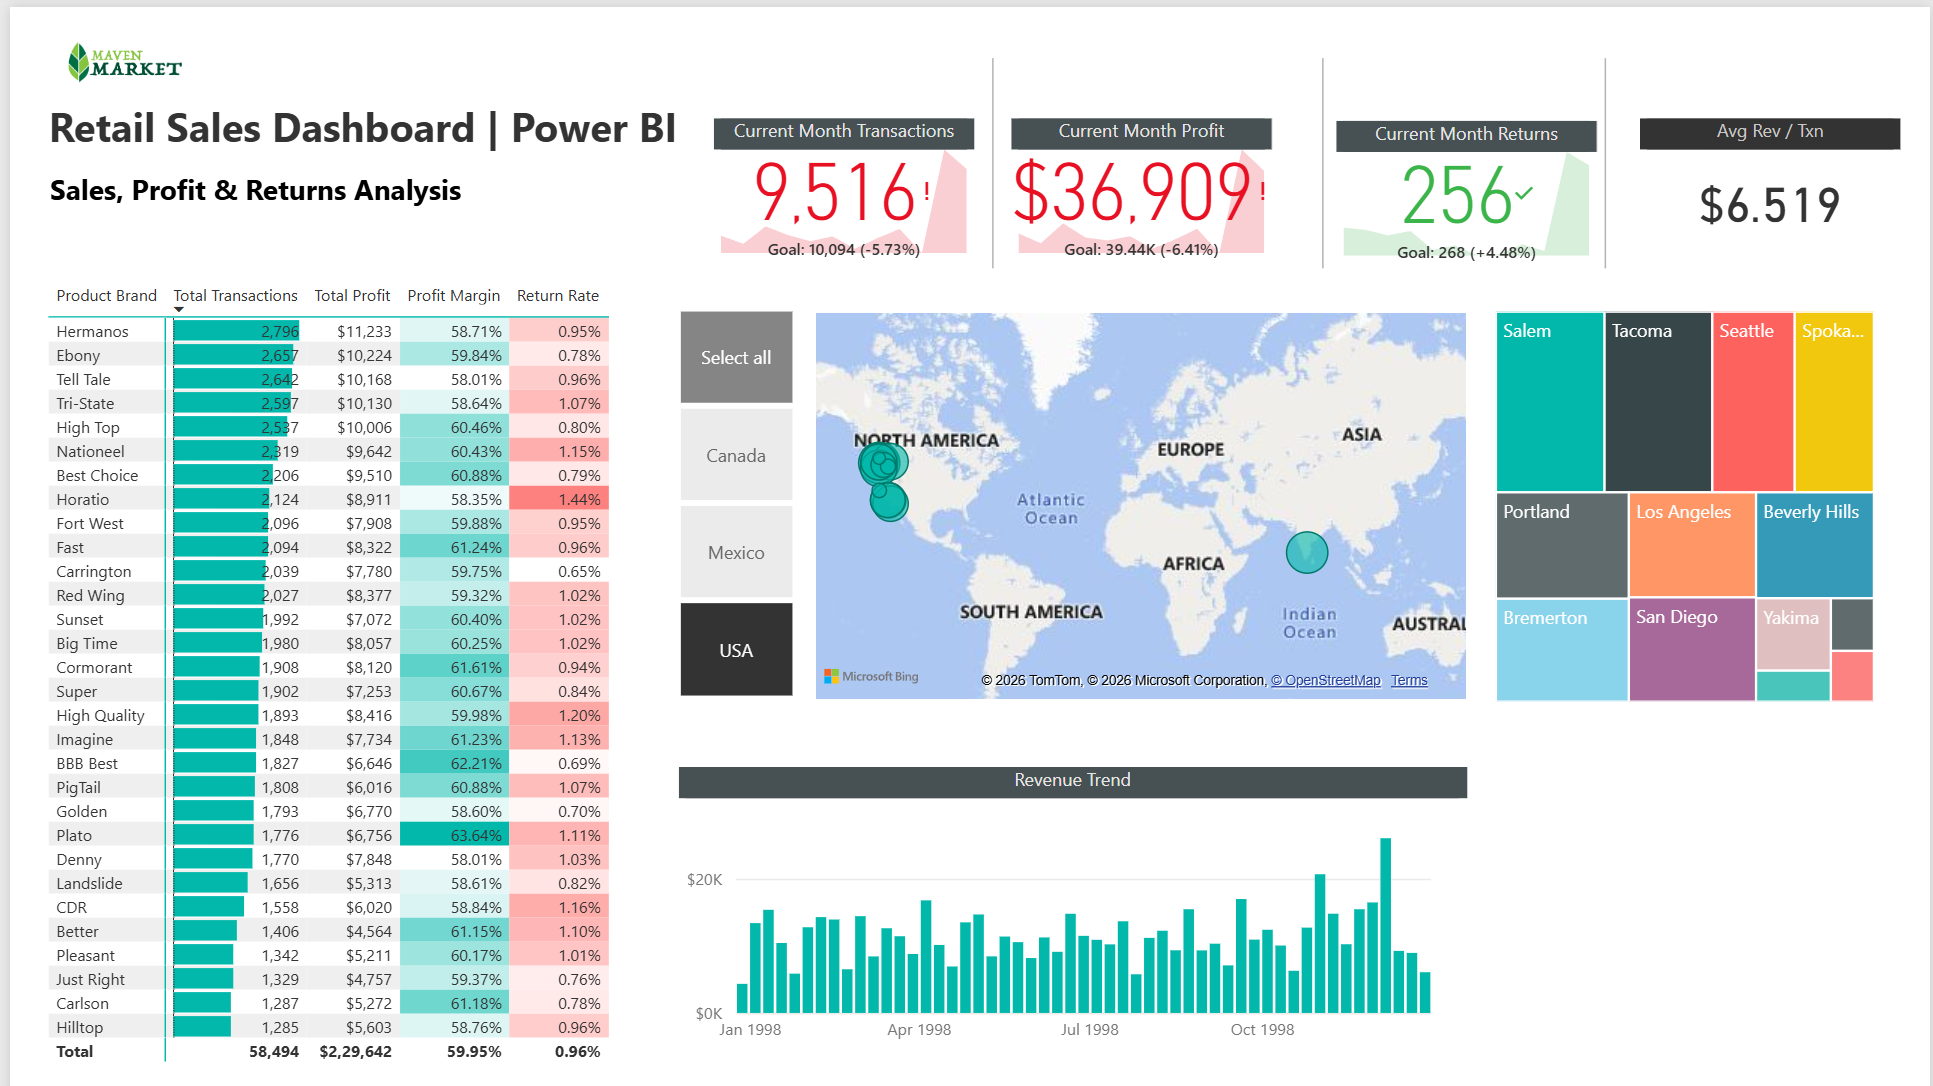

The page's visual inventory and layout, read from the dashboard file:
{"tool":"powerbi","page":{"name":"Retail Performance Dashboard","canvas":[1280,720],"ordinal":0},"visuals":[{"type":"image","box":[20.9,0,111.3,40],"z":0},{"type":"pivotTable","fields":{"Rows":["Products.product_brand"],"Values":["Transaction_Data.Total Transactions","Transaction_Data.Total Profit","Transaction_Data.Profit Margin","Return_Data.Return Rate"]},"box":[20.6,161.3,401.5,536],"z":1000},{"type":"kpi","title":"Current Month Transactions","fields":{"Goal":["Transaction_Data.Last Month Transactions"],"Indicator":["Transaction_Data.Total Transactions"],"TrendLine":["Calendar.Start of Month"]},"box":[468.8,57.5,173.8,95],"z":2000},{"type":"kpi","title":"Current Month Profit","fields":{"Goal":["Transaction_Data.Last Month Profit"],"Indicator":["Transaction_Data.Total Profit"],"TrendLine":["Calendar.Start of Month"]},"box":[667.5,57.5,173.8,95],"z":3000},{"type":"kpi","title":"Current Month Returns","fields":{"Goal":["Return_Data.Last Month Returns"],"Indicator":["Return_Data.Total Returns"],"TrendLine":["Calendar.Start of Month"]},"box":[883.8,58.8,173.8,95],"z":4000},{"type":"map","fields":{"Category":["Stores.store_city"],"Size":["Transaction_Data.Total Transactions"]},"box":[532.8,182.5,442.7,266.5],"z":5000},{"type":"slicer","fields":{"Values":["Stores.store_country"]},"box":[420.5,178.9,124.7,270],"z":6000},{"type":"columnChart","title":"Revenue Trend","fields":{"Category":["Calendar.Start of Week"],"Y":["Transaction_Data.Total Revenue"]},"box":[445.9,490,525.3,192.2],"z":7000},{"type":"basicShape","box":[621.4,7.1,67.1,160],"z":9000},{"type":"basicShape","box":[841.4,7.1,67.1,160],"z":10000},{"type":"treemap","fields":{"Group":["Stores.store_country","Stores.store_state","Stores.store_city"],"Values":["Transaction_Data.Total Transactions"]},"box":[985.8,181.4,261.9,270],"z":11000},{"type":"textbox","box":[20.9,40,511.3,47],"z":11001},{"type":"textbox","box":[21.2,87.5,303.8,38.8],"z":11002},{"type":"card","title":"Avg Rev / Txn","fields":{"Values":["Transaction_Data.Avg Revenue per Transaction"]},"box":[1086.2,57.5,173.8,95],"z":11003},{"type":"basicShape","box":[1030,7.1,67.1,160],"z":11004}]}

Visuals, with their boxes in screenshot pixels (x1, y1, x2, y2), scaled from the page's 1280x720 canvas onto the 1933x1086 screenshot:
image: <region>32, 0, 200, 60</region>
pivotTable - Products.product_brand x Transaction_Data.Total Transactions: <region>31, 243, 637, 1052</region>
"Current Month Transactions" kpi: <region>708, 87, 970, 230</region>
"Current Month Profit" kpi: <region>1008, 87, 1270, 230</region>
"Current Month Returns" kpi: <region>1335, 89, 1597, 232</region>
map - Stores.store_city x Transaction_Data.Total Transactions: <region>805, 275, 1473, 677</region>
slicer - Stores.store_country: <region>635, 270, 823, 677</region>
"Revenue Trend" columnChart: <region>673, 739, 1467, 1029</region>
basicShape: <region>938, 11, 1040, 252</region>
basicShape: <region>1271, 11, 1372, 252</region>
treemap - Stores.store_country x Stores.store_state: <region>1489, 274, 1884, 681</region>
textbox: <region>32, 60, 804, 131</region>
textbox: <region>32, 132, 491, 191</region>
"Avg Rev / Txn" card: <region>1640, 87, 1903, 230</region>
basicShape: <region>1555, 11, 1657, 252</region>
